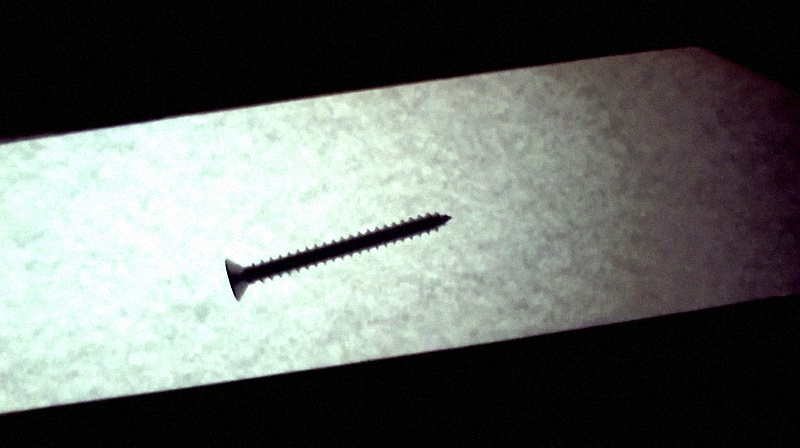S002: (220, 210, 457, 305)
